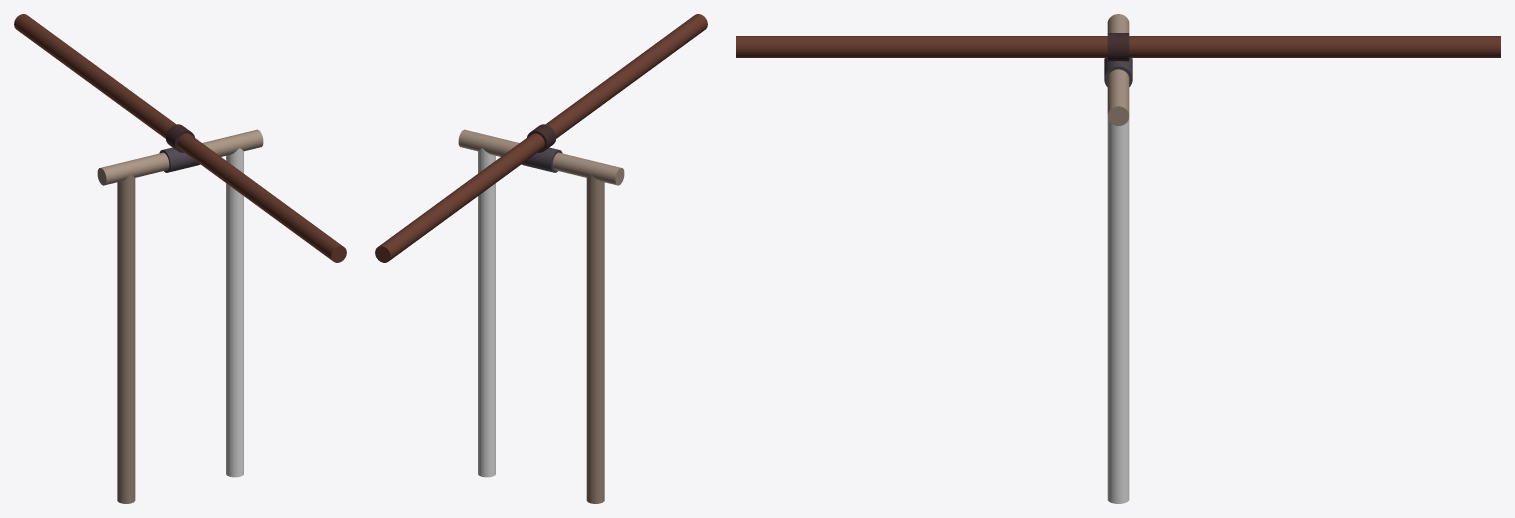
File: jiegao (1).fbx
3 renders of one model, left to right at view 1: azimuth 30°, elevation 25°; view 2: azimuth 150°, elevation 25°; view 3: azimuth 270°, elevation 25°, orthographic. The views are drawn at different scales.
Parts seen in each view (by area): view 1: 柱体.006, 柱体.001, 柱体, 柱体.002, 柱体.003, 柱体.004; view 2: 柱体.006, 柱体.001, 柱体, 柱体.002, 柱体.003, 柱体.004; view 3: 柱体.006, 柱体, 柱体.002.
Part boxes in pixels (<box>): 柱体.006: <box>14,14,346,262</box>; 柱体.001: <box>117,175,135,503</box>; 柱体: <box>226,148,243,477</box>; 柱体.002: <box>97,129,263,185</box>; 柱体.003: <box>159,147,200,172</box>; 柱体.004: <box>165,124,194,152</box>; 柱体.006: <box>375,14,707,262</box>; 柱体.001: <box>586,175,604,503</box>; 柱体: <box>478,148,495,477</box>; 柱体.002: <box>458,129,624,185</box>; 柱体.003: <box>521,147,562,172</box>; 柱体.004: <box>527,124,556,152</box>; 柱体.006: <box>736,36,1500,57</box>; 柱体: <box>1107,118,1129,503</box>; 柱体.002: <box>1107,14,1129,125</box>.
Bounding box in the file's own units: 200 × 437 × 700.
